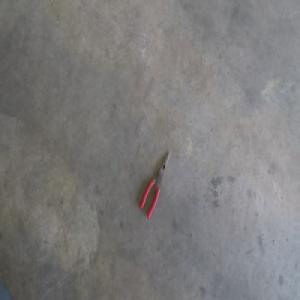Pliers: (139, 145, 170, 215)
